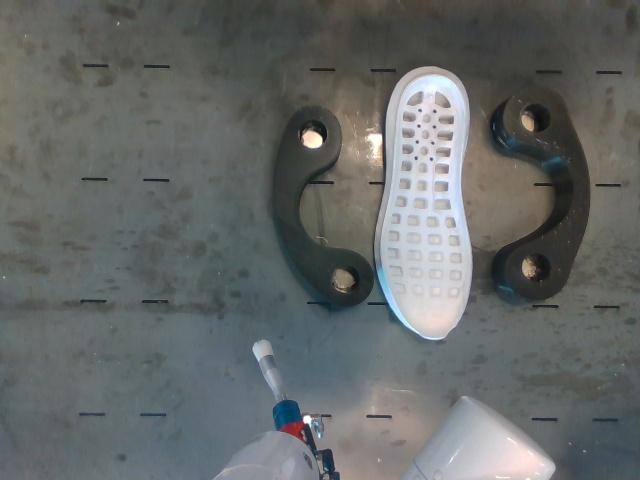shoes: (381, 75, 471, 339)
